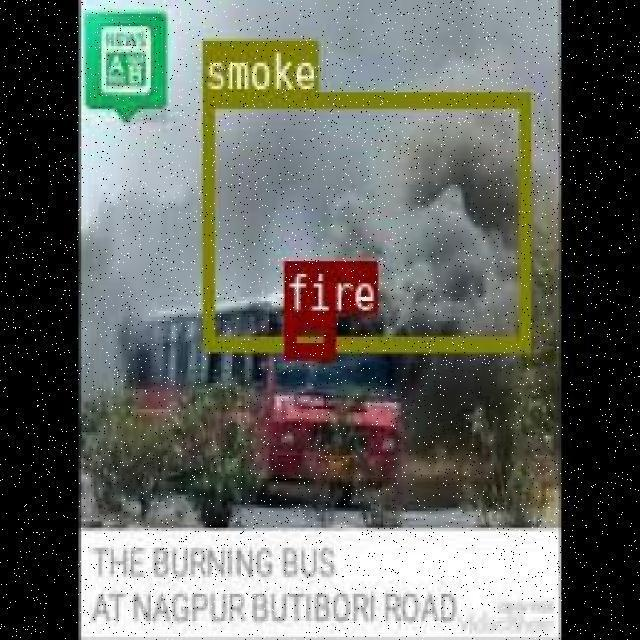Smoke: (202, 88, 527, 348)
